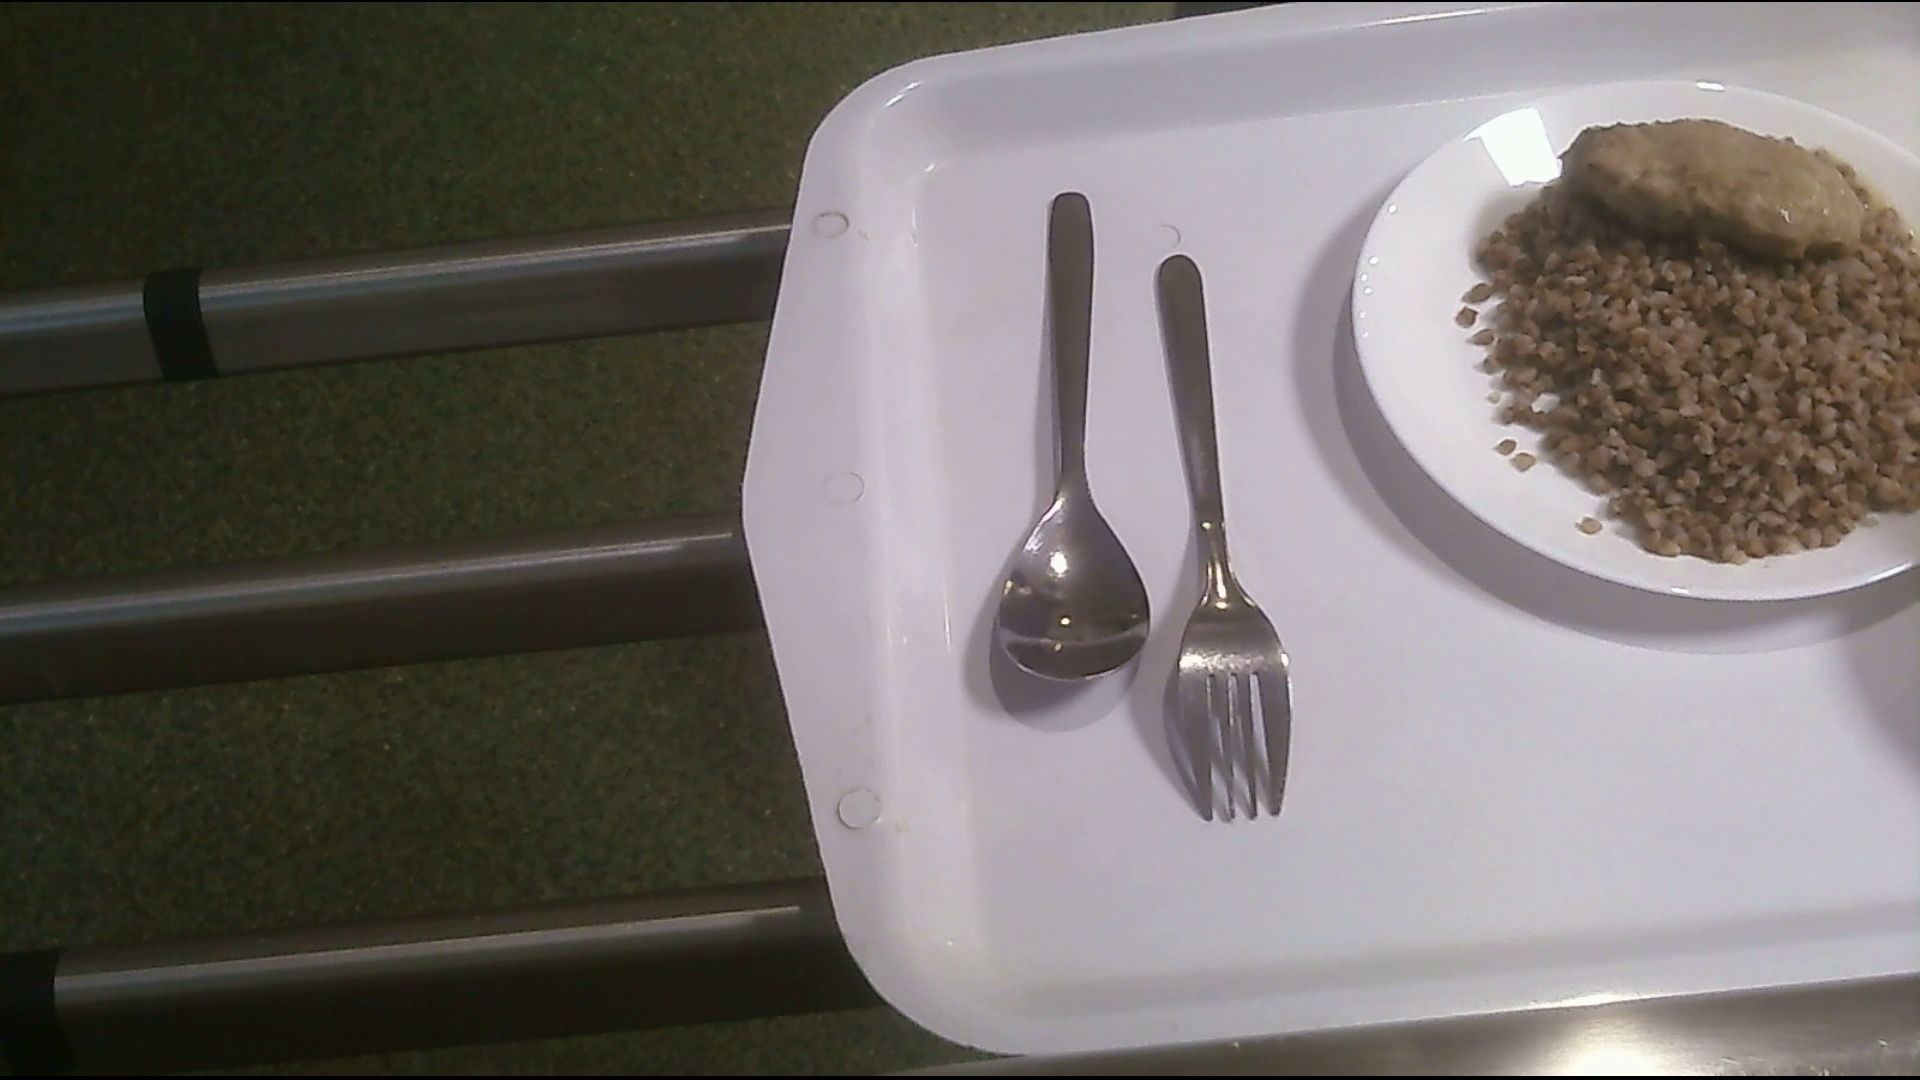cutlery: (1153, 256, 1294, 822), (1000, 185, 1154, 694)
plate: (1354, 87, 1920, 603)
